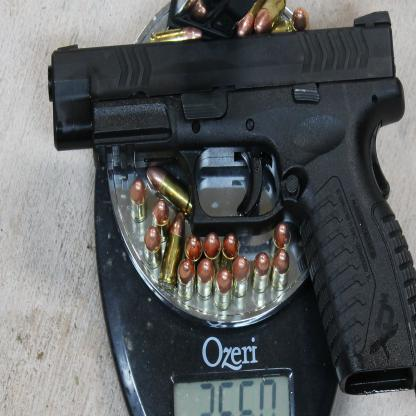gun: (45, 12, 416, 404)
